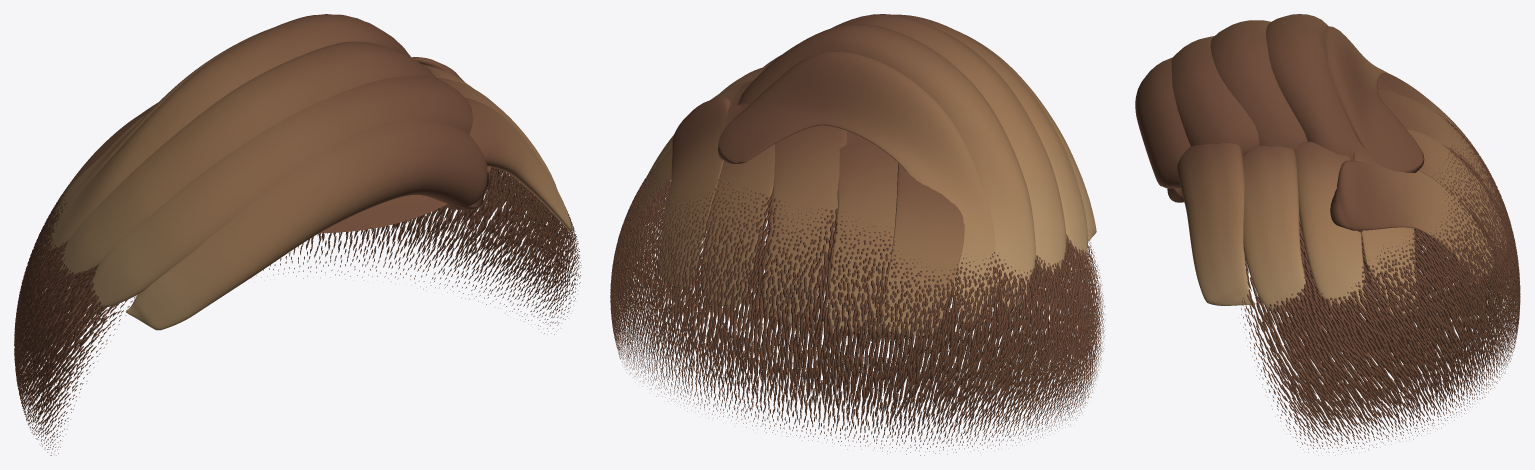
File: Masculine-taper-ears254-hair-ombre.glb
3 renders of one model, left to right at view 1: azimuth 30°, elevation 25°; view 2: azimuth 150°, elevation 25°; view 3: azimuth 270°, elevation 25°, orthographic. The views are drawn at different scales.
Visible parts, largest first — view 1: 226 hair / Hair252 / sculpted locks, 226 hair / Hair252 / gentle tonal variation, 226 hair / Hair254 / rooted short groom; view 2: 226 hair / Hair252 / sculpted locks, 226 hair / Hair254 / rooted short groom, 226 hair / Hair252 / gentle tonal variation; view 3: 226 hair / Hair252 / sculpted locks, 226 hair / Hair254 / rooted short groom, 226 hair / Hair252 / gentle tonal variation.
Part boxes in pixels (x1,y1,x2,y2): 226 hair / Hair252 / sculpted locks: (36,14,556,307); 226 hair / Hair252 / gentle tonal variation: (126,97,571,330); 226 hair / Hair254 / rooted short groom: (14,166,581,455); 226 hair / Hair252 / sculpted locks: (631,14,1087,335); 226 hair / Hair254 / rooted short groom: (610,162,1105,455); 226 hair / Hair252 / gentle tonal variation: (764,32,1096,333); 226 hair / Hair252 / sculpted locks: (1171,14,1506,314); 226 hair / Hair254 / rooted short groom: (1238,111,1520,455); 226 hair / Hair252 / gentle tonal variation: (1135,58,1472,305).
Bounding box in the file's own units: 0.9716 × 0.6881 × 0.7405.
